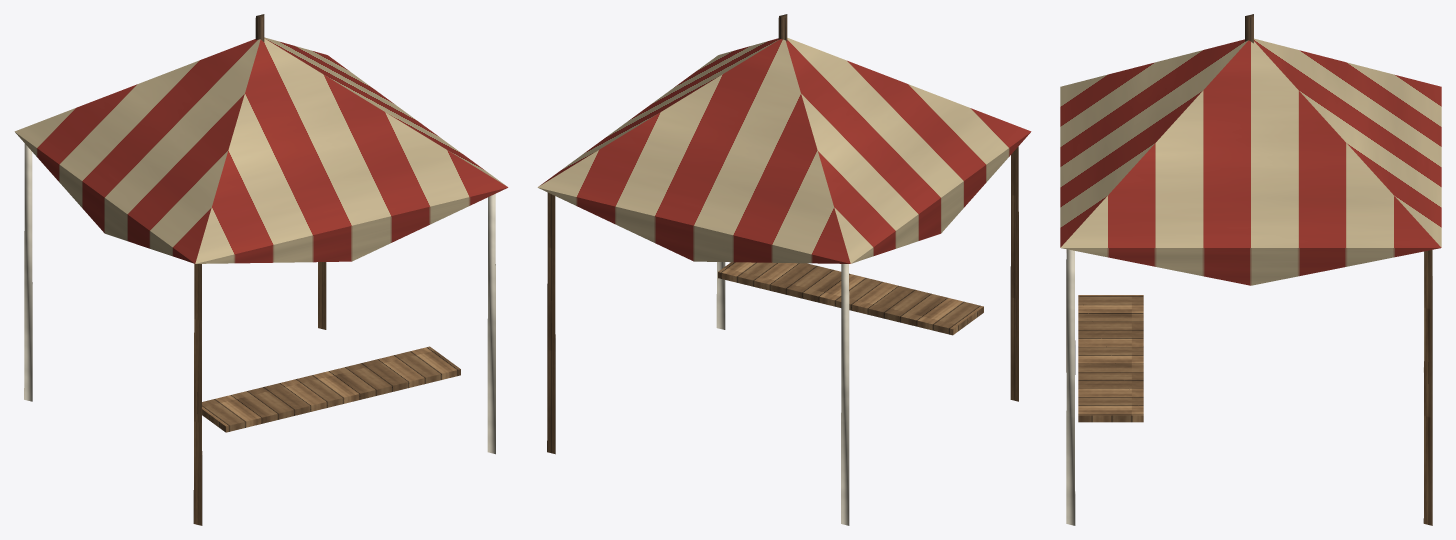
The model's file is Stall_Tent_Market_2_LOD2.gltf.
The picture shows the model from 3 angles, left to right: view 1: azimuth 30°, elevation 25°; view 2: azimuth 150°, elevation 25°; view 3: azimuth 270°, elevation 25°; orthographic projection. The views are drawn at different scales.
Visible parts, largest first — view 1: Stall_Tent_Market_2_LOD2; view 2: Stall_Tent_Market_2_LOD2; view 3: Stall_Tent_Market_2_LOD2.
Part boxes in pixels (box(x1,y1,x2,y2)): Stall_Tent_Market_2_LOD2: box(14, 14, 508, 525); Stall_Tent_Market_2_LOD2: box(537, 14, 1031, 525); Stall_Tent_Market_2_LOD2: box(1060, 14, 1441, 525).
Bounding box in the file's own units: 3.2 × 4 × 3.2.
4 materials, 4 textured.
